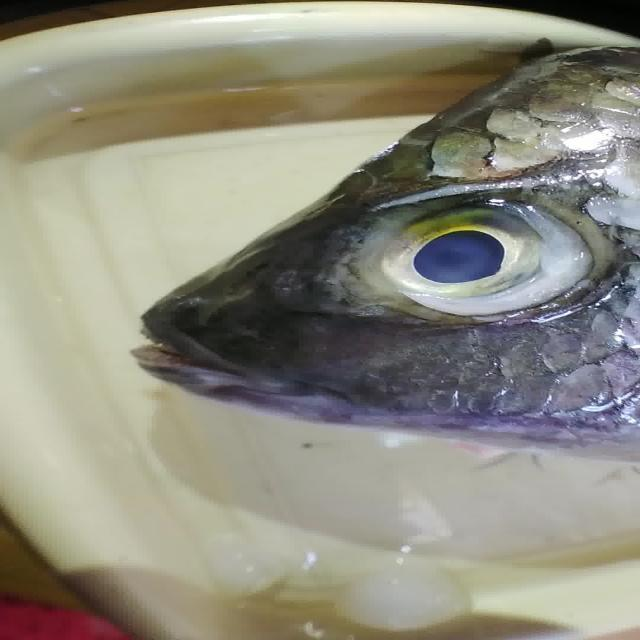Fresh: (340, 186, 626, 337)
